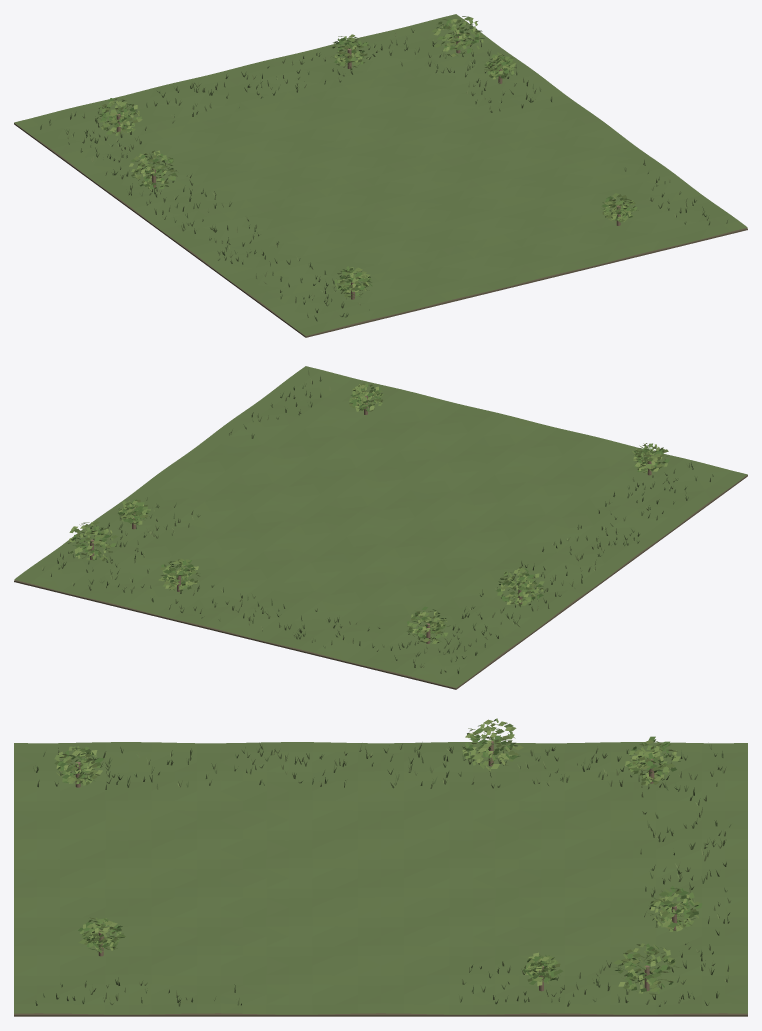
Rendered from SM_ConspiracyHouse_Garden.fbx.
3 views of the same model, one above another, from view 1: azimuth 30°, elevation 25°; view 2: azimuth 150°, elevation 25°; view 3: azimuth 270°, elevation 25° (orthographic). The views are drawn at different scales.
Parts seen in each view (by area): view 1: EXPORT_Uneven_Lawn_14x16, EXPORT_Scattered_Grass_Tufts, EXPORT_Soil_Base, EXPORT_Shrub_Leaves_03, EXPORT_Shrub_Leaves_02, EXPORT_Shrub_Leaves_04, EXPORT_Shrub_Leaves_00, EXPORT_Shrub_Leaves_05, EXPORT_Shrub_Leaves_01, EXPORT_Shrub_Leaves_06; view 2: EXPORT_Uneven_Lawn_14x16, EXPORT_Scattered_Grass_Tufts, EXPORT_Soil_Base, EXPORT_Shrub_Leaves_02, EXPORT_Shrub_Leaves_03, EXPORT_Shrub_Leaves_05, EXPORT_Shrub_Leaves_04, EXPORT_Shrub_Leaves_00, EXPORT_Shrub_Leaves_01, EXPORT_Shrub_Leaves_06; view 3: EXPORT_Uneven_Lawn_14x16, EXPORT_Scattered_Grass_Tufts, EXPORT_Soil_Base, EXPORT_Shrub_Leaves_02, EXPORT_Shrub_Leaves_03, EXPORT_Shrub_Leaves_04, EXPORT_Shrub_Leaves_05, EXPORT_Shrub_Leaves_00, EXPORT_Shrub_Leaves_01, EXPORT_Shrub_Leaves_06.
Part boxes in pixels (x1,y1,x2,y2): EXPORT_Uneven_Lawn_14x16: (14, 14, 747, 335); EXPORT_Scattered_Grass_Tufts: (40, 26, 727, 321); EXPORT_Soil_Base: (14, 123, 747, 337); EXPORT_Shrub_Leaves_03: (431, 16, 484, 56); EXPORT_Shrub_Leaves_02: (129, 150, 178, 190); EXPORT_Shrub_Leaves_04: (96, 98, 142, 135); EXPORT_Shrub_Leaves_00: (334, 266, 372, 297); EXPORT_Shrub_Leaves_05: (331, 34, 368, 67); EXPORT_Shrub_Leaves_01: (601, 193, 638, 222); EXPORT_Shrub_Leaves_06: (484, 52, 515, 79); EXPORT_Uneven_Lawn_14x16: (14, 366, 747, 687); EXPORT_Scattered_Grass_Tufts: (42, 370, 713, 673); EXPORT_Soil_Base: (14, 475, 747, 689); EXPORT_Shrub_Leaves_02: (496, 566, 544, 605); EXPORT_Shrub_Leaves_03: (68, 521, 117, 561); EXPORT_Shrub_Leaves_05: (158, 558, 200, 591); EXPORT_Shrub_Leaves_04: (407, 606, 450, 643); EXPORT_Shrub_Leaves_00: (632, 443, 669, 472); EXPORT_Shrub_Leaves_01: (349, 383, 383, 411); EXPORT_Shrub_Leaves_06: (118, 499, 150, 525); EXPORT_Uneven_Lawn_14x16: (14, 742, 747, 1014); EXPORT_Scattered_Grass_Tufts: (33, 742, 731, 1006); EXPORT_Soil_Base: (14, 1013, 747, 1016); EXPORT_Shrub_Leaves_02: (462, 718, 523, 770); EXPORT_Shrub_Leaves_03: (613, 943, 681, 994); EXPORT_Shrub_Leaves_04: (625, 736, 680, 785); EXPORT_Shrub_Leaves_05: (648, 886, 702, 931); EXPORT_Shrub_Leaves_00: (54, 746, 104, 785); EXPORT_Shrub_Leaves_01: (78, 917, 125, 953); EXPORT_Shrub_Leaves_06: (523, 952, 563, 985).
Size of the model in its own units: 1400 by 1600 by 113.
